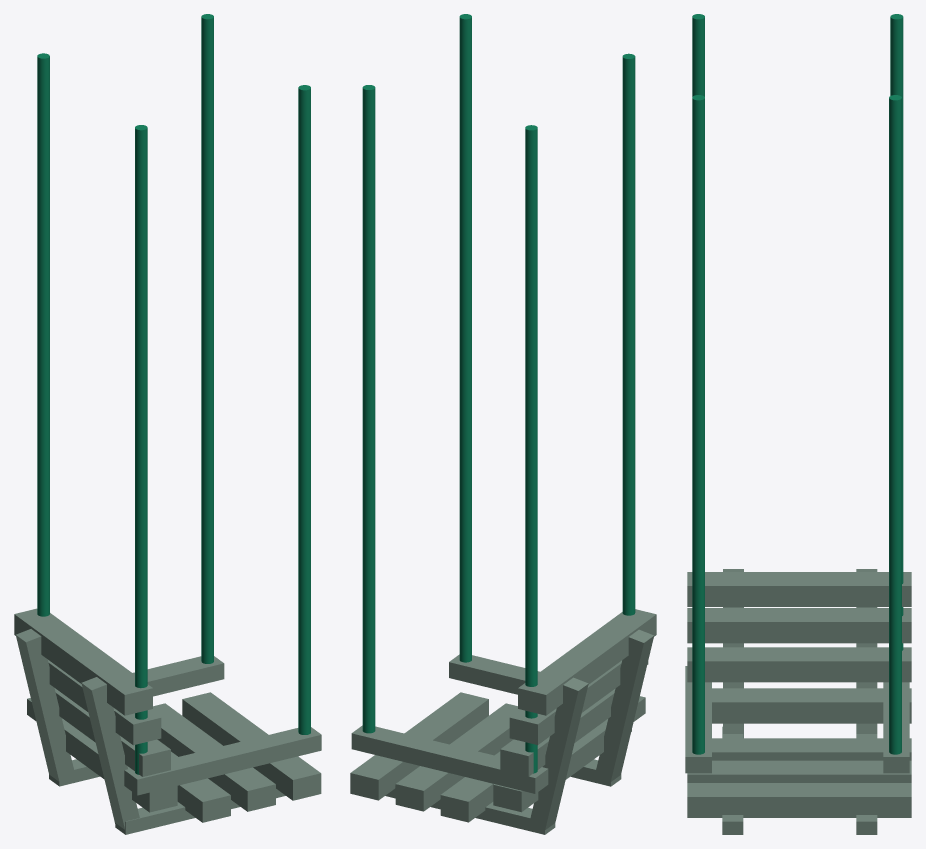
Rendered from cadeiracarrosselvoadorseparado.obj.
The picture shows the model from 3 angles, left to right: view 1: azimuth 30°, elevation 25°; view 2: azimuth 150°, elevation 25°; view 3: azimuth 270°, elevation 25°; orthographic projection.
Visible parts, largest first — view 1: cadeiracarrosselvoador7:group3 cadeiracarrosselvoador7:pasted__p; view 2: cadeiracarrosselvoador7:group3 cadeiracarrosselvoador7:pasted__p; view 3: cadeiracarrosselvoador7:group3 cadeiracarrosselvoador7:pasted__p.
Boxes of the visible parts, <box> form: cadeiracarrosselvoador7:group3 cadeiracarrosselvoador7:pasted__p: <box>14,14,321,834</box>; cadeiracarrosselvoador7:group3 cadeiracarrosselvoador7:pasted__p: <box>350,14,656,834</box>; cadeiracarrosselvoador7:group3 cadeiracarrosselvoador7:pasted__p: <box>685,14,911,834</box>.
Bounding box in the file's own units: 0.2689 × 0.8166 × 0.2307.
1 material, 1 textured.
